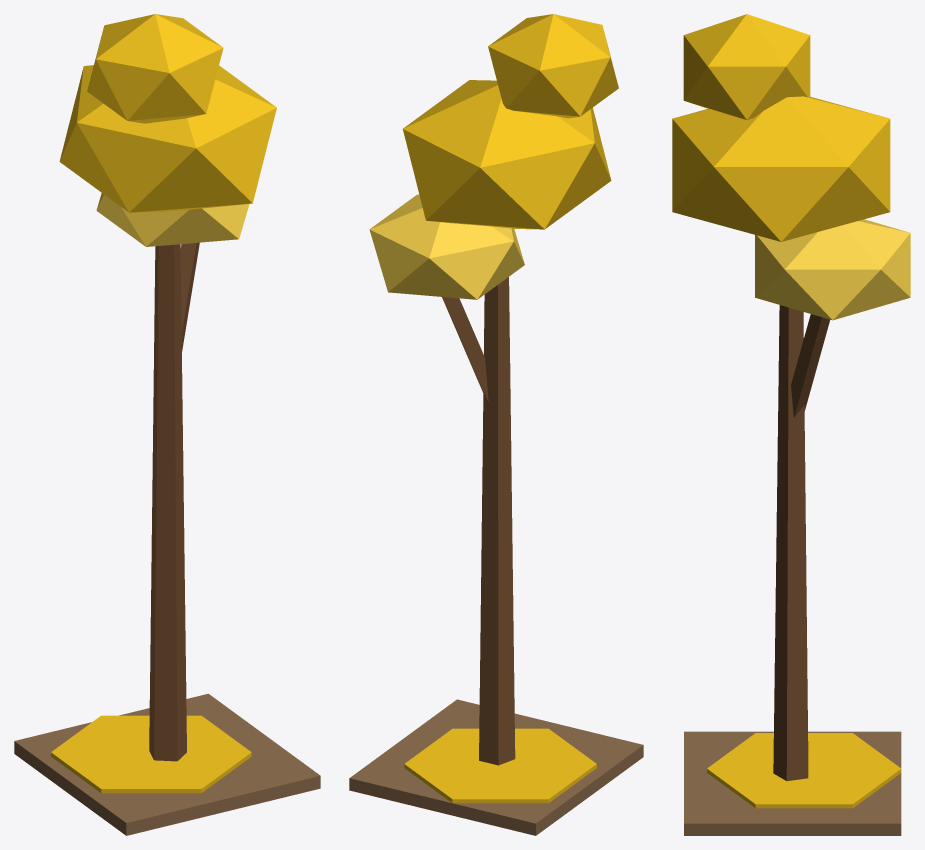
Rendered from arvore_ipe.glb.
The picture shows the model from 3 angles, left to right: view 1: azimuth 30°, elevation 25°; view 2: azimuth 150°, elevation 25°; view 3: azimuth 270°, elevation 25°; orthographic projection. The views are drawn at different scales.
Parts seen in each view (by area): view 1: corpo; view 2: corpo; view 3: corpo.
Boxes of the visible parts, x1,y1,x2,y2 form: corpo: (14,14,320,835); corpo: (349,14,643,835); corpo: (672,14,910,835).
Bounding box in the file's own units: 0.193 × 0.732 × 0.2083.
